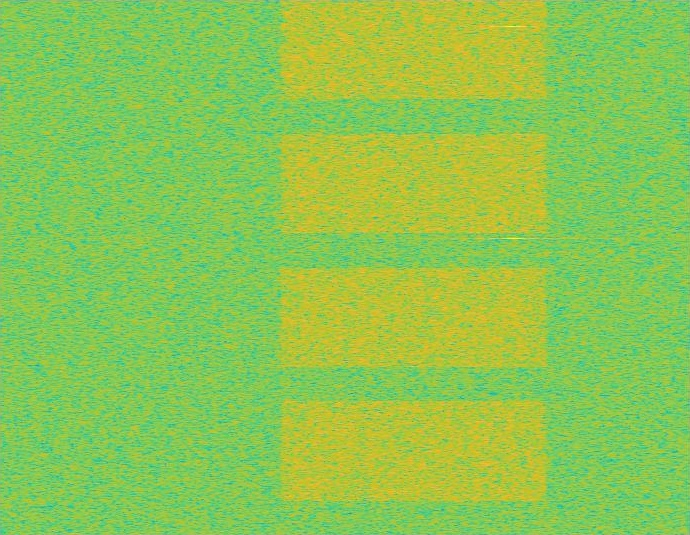5G: (276, 0, 552, 534)
Radar: (507, 0, 521, 534)
